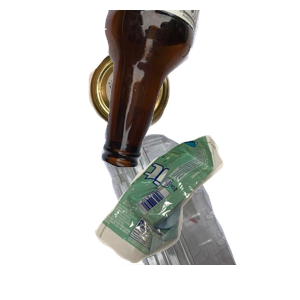glass: (99, 10, 300, 170)
metal: (86, 46, 248, 169)
plastic: (55, 120, 284, 300)
trash: (92, 133, 300, 300)
